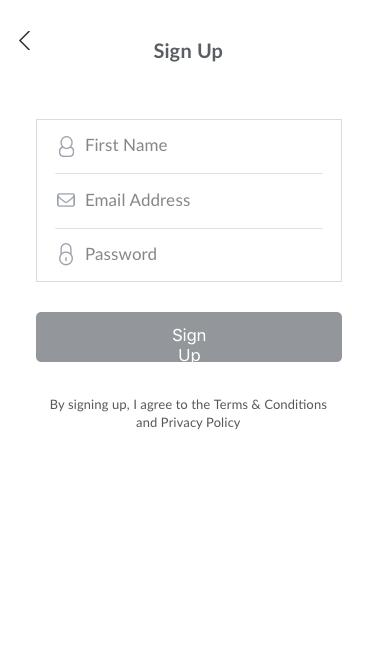EditText: (37, 174, 342, 230), (37, 120, 342, 175), (37, 229, 342, 283)
Icon: (60, 137, 75, 158), (60, 244, 74, 266), (58, 194, 76, 208), (20, 32, 31, 51)
Text: (51, 398, 327, 430), (87, 194, 191, 207), (154, 44, 223, 62), (87, 139, 168, 152), (87, 249, 157, 261)
TextButton: (37, 313, 342, 363)
